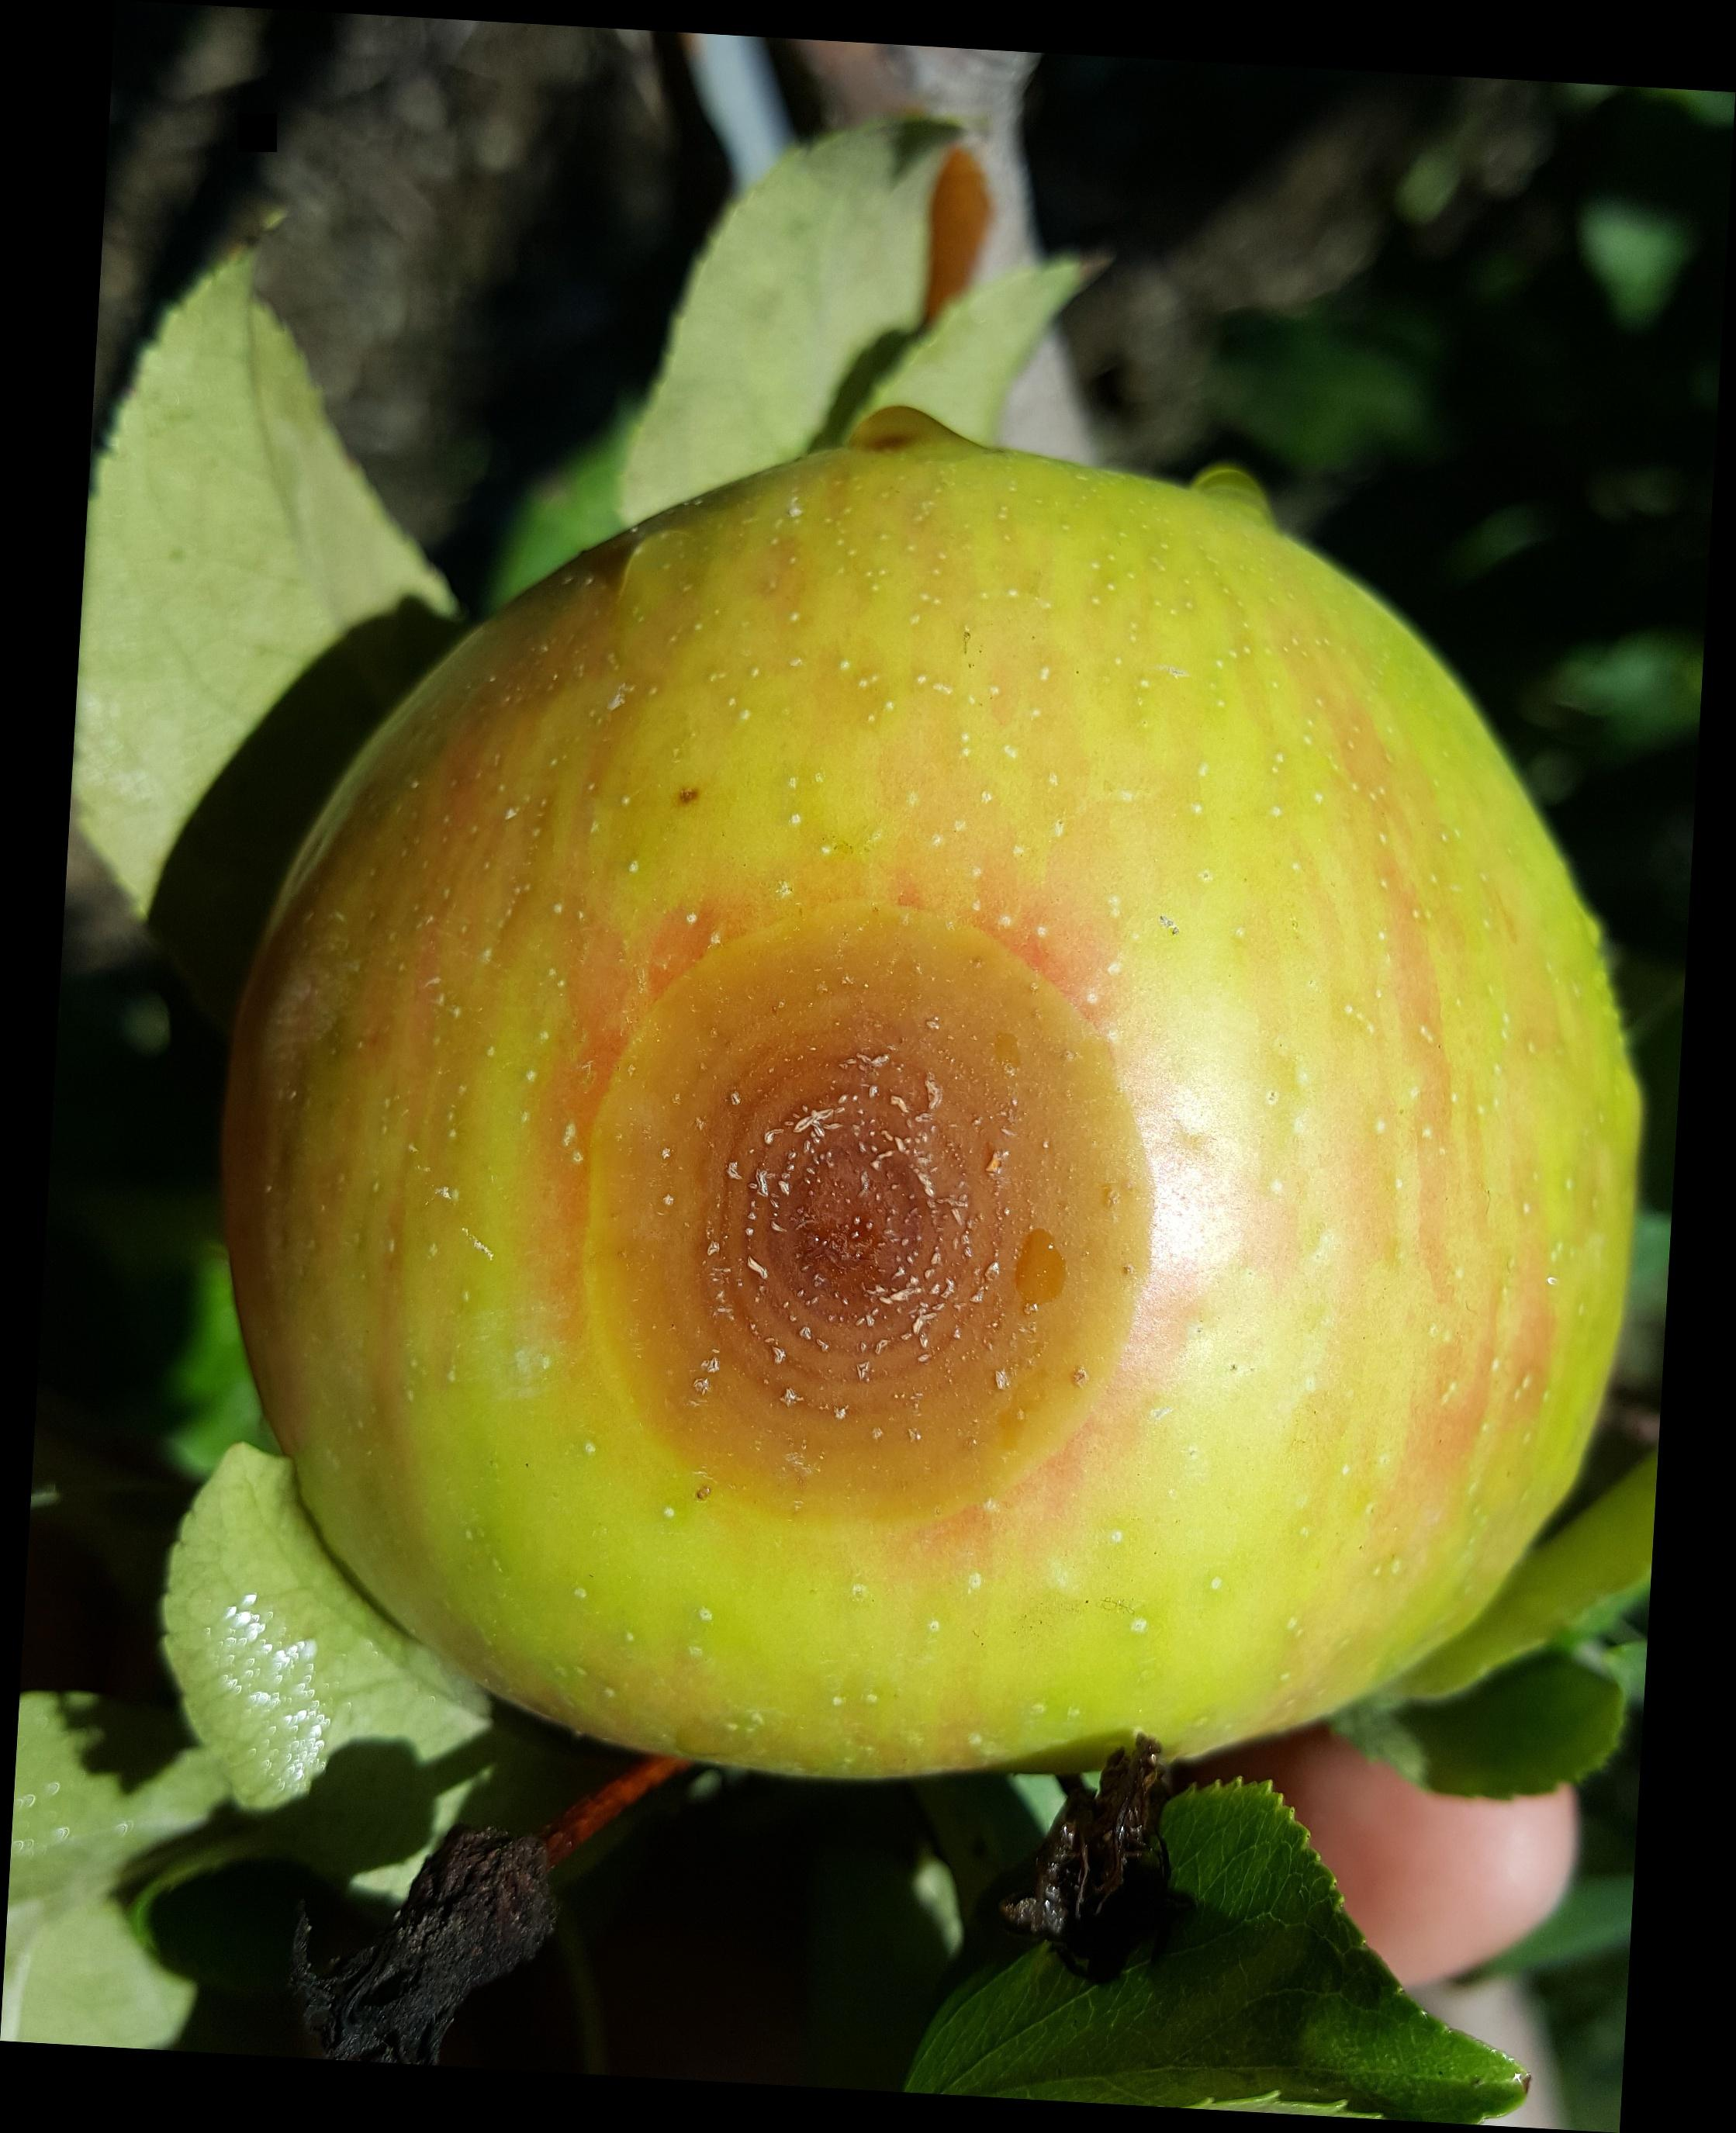rotten apple: (179, 448, 1663, 1800)
